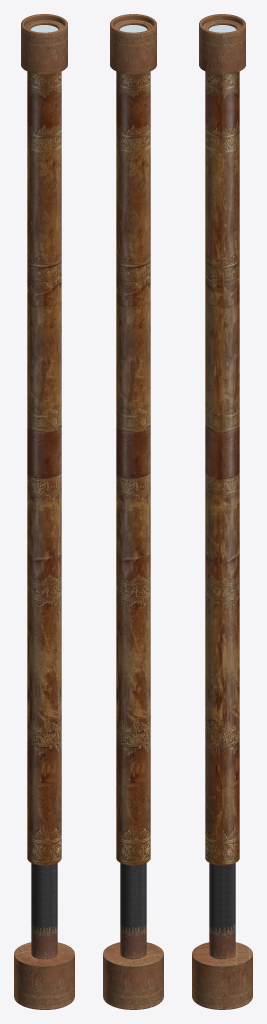
File: galileo_telescope_LR.glb
3 views of the same model, side by side, from view 1: azimuth 30°, elevation 25°; view 2: azimuth 210°, elevation 25°; view 3: azimuth 270°, elevation 25° (orthographic).
Parts seen in each view (by area): view 1: Tubo externo, Ocular, Tubo interno; view 2: Tubo externo, Ocular, Tubo interno; view 3: Tubo externo, Ocular, Tubo interno.
Part boxes in pixels (x1,y1,x2,y2): Tubo externo: (27,71,61,865); Ocular: (14,14,74,1009); Tubo interno: (31,863,57,959); Tubo externo: (116,71,150,865); Ocular: (103,14,163,1009); Tubo interno: (120,863,146,959); Tubo externo: (205,71,239,865); Ocular: (192,14,252,1009); Tubo interno: (209,863,235,959).
Size of the model in its own units: 0.058 by 1.02 by 0.058.
Materials: 5 (3 with a texture image).
